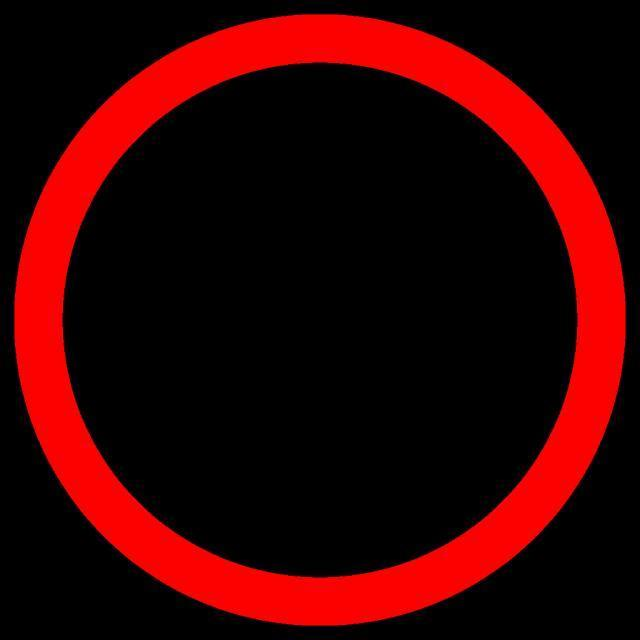Circle: (15, 12, 627, 627)
